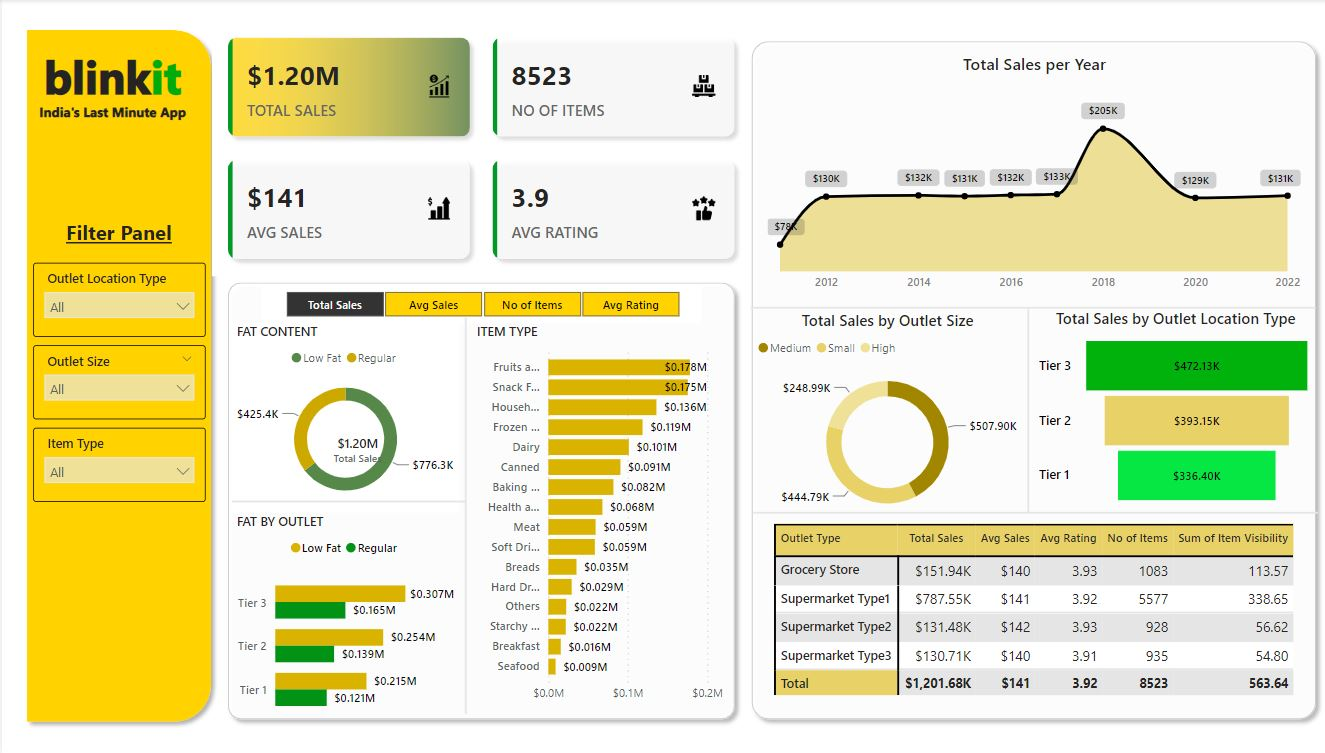

The page's visual inventory and layout, read from the dashboard file:
{"tool":"powerbi","page":{"name":"Page 1","canvas":[1400,800],"ordinal":0},"visuals":[{"type":"shape","box":[17.2,23.8,213,750],"z":0},{"type":"textbox","box":[30.4,43.7,173.3,75.4],"z":1000},{"type":"textbox","box":[30.4,104.5,173.3,29.1],"z":2000},{"type":"cardVisual","fields":{"Data":["BlinkIT Grocery Data.Total Sales","BlinkIT Grocery Data.No of Items","BlinkIT Grocery Data.Avg Sales","BlinkIT Grocery Data.Avg Rating"]},"box":[222.2,23.8,570.1,269.8],"z":3000},{"type":"shape","box":[230.2,291,554.2,480.2],"z":4000},{"type":"slicer","fields":{"Values":["Metrics.Metrics"]},"box":[275.1,302.9,465.6,39.7],"z":5000},{"type":"donutChart","title":"FAT CONTENT","fields":{"Y":["BlinkIT Grocery Data.Total Sales"],"Category":["BlinkIT Grocery Data.Item Fat Content"]},"box":[243.4,342.6,240.7,201.1],"z":6000},{"type":"cardVisual","fields":{"Data":["BlinkIT Grocery Data.Total Sales"]},"box":[322.8,444.4,107.1,63.5],"z":7000},{"type":"clusteredBarChart","title":"FAT BY OUTLET","fields":{"Y":["BlinkIT Grocery Data.Total Sales"],"Category":["BlinkIT Grocery Data.Outlet Location Type"],"Series":["BlinkIT Grocery Data.Item Fat Content"]},"box":[243.4,543.7,240.7,230.2],"z":8000},{"type":"shape","box":[243.4,515.9,247.4,31.7],"z":9000},{"type":"shape","box":[484.1,337.3,13.2,419.3],"z":10000},{"type":"barChart","title":"ITEM TYPE","fields":{"Y":["BlinkIT Grocery Data.Total Sales"],"Category":["BlinkIT Grocery Data.Item Type"]},"box":[497.4,342.6,271.2,410.1],"z":11000},{"type":"shape","box":[784.4,35.7,615.1,735.5],"z":12000},{"type":"lineChart","title":"Total Sales per Year","fields":{"Y":["BlinkIT Grocery Data.Total Sales"],"Category":["BlinkIT Grocery Data.Outlet Establishment Year"]},"box":[805.6,56.9,574.1,260.6],"z":13000},{"type":"shape","box":[792.3,317.5,597.9,18.5],"z":14000},{"type":"pieChart","fields":{"Y":["BlinkIT Grocery Data.Total Sales"],"Category":["BlinkIT Grocery Data.Outlet Size"]},"box":[795,328,284.4,232.8],"z":15000},{"type":"funnel","fields":{"Y":["BlinkIT Grocery Data.Total Sales"],"Category":["BlinkIT Grocery Data.Outlet Location Type"]},"box":[1092.6,326.7,298.9,216.9],"z":16000},{"type":"shape","box":[1079.4,328,13.2,215.6],"z":17000},{"type":"shape","box":[795,534.4,597.9,18.5],"z":18000},{"type":"pivotTable","fields":{"Rows":["BlinkIT Grocery Data.Outlet Type"],"Values":["BlinkIT Grocery Data.Total Sales","BlinkIT Grocery Data.Avg Sales","BlinkIT Grocery Data.Avg Rating","BlinkIT Grocery Data.No of Items","Sum(BlinkIT Grocery Data.Item Visibility)"]},"box":[812.2,550.3,559.5,202.4],"z":19000},{"type":"slicer","fields":{"Values":["BlinkIT Grocery Data.Outlet Location Type"]},"box":[33.1,279.1,182.5,78],"z":20000},{"type":"slicer","fields":{"Values":["BlinkIT Grocery Data.Outlet Size"]},"box":[33.1,366.4,182.5,78],"z":21000},{"type":"slicer","fields":{"Values":["BlinkIT Grocery Data.Item Type"]},"box":[33.1,453.7,182.5,78],"z":22000},{"type":"textbox","box":[37,227.5,173.3,42.3],"z":23000}]}

Visuals, with their boxes in screenshot pixels (x1, y1, x2, y2), scaled from the page's 1400x800 canvas onto the 1325x753 screenshot:
shape: 16 22 218 728
textbox: 29 41 193 112
textbox: 29 98 193 126
cardVisual - BlinkIT Grocery Data.Total Sales x BlinkIT Grocery Data.No of Items: 210 22 750 276
shape: 218 274 742 726
slicer - Metrics.Metrics: 260 285 701 322
"FAT CONTENT" donutChart: 230 322 458 512
cardVisual - BlinkIT Grocery Data.Total Sales: 306 418 407 478
"FAT BY OUTLET" clusteredBarChart: 230 512 458 728
shape: 230 486 465 515
shape: 458 317 471 712
"ITEM TYPE" barChart: 471 322 727 708
shape: 742 34 1324 726
"Total Sales per Year" lineChart: 762 54 1306 299
shape: 750 299 1316 316
pieChart - BlinkIT Grocery Data.Total Sales x BlinkIT Grocery Data.Outlet Size: 752 309 1022 528
funnel - BlinkIT Grocery Data.Total Sales x BlinkIT Grocery Data.Outlet Location Type: 1034 308 1317 512
shape: 1022 309 1034 512
shape: 752 503 1318 520
pivotTable - BlinkIT Grocery Data.Outlet Type x BlinkIT Grocery Data.Total Sales: 769 518 1298 708
slicer - BlinkIT Grocery Data.Outlet Location Type: 31 263 204 336
slicer - BlinkIT Grocery Data.Outlet Size: 31 345 204 418
slicer - BlinkIT Grocery Data.Item Type: 31 427 204 500
textbox: 35 214 199 254
